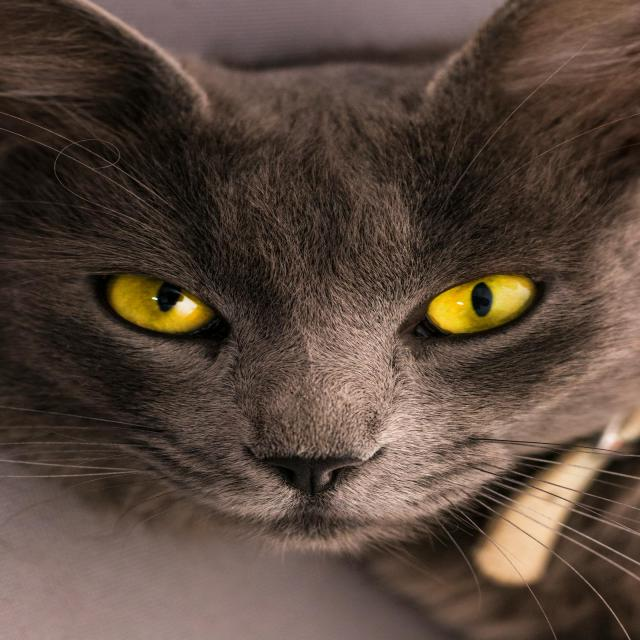Cat: (1, 1, 638, 638)
